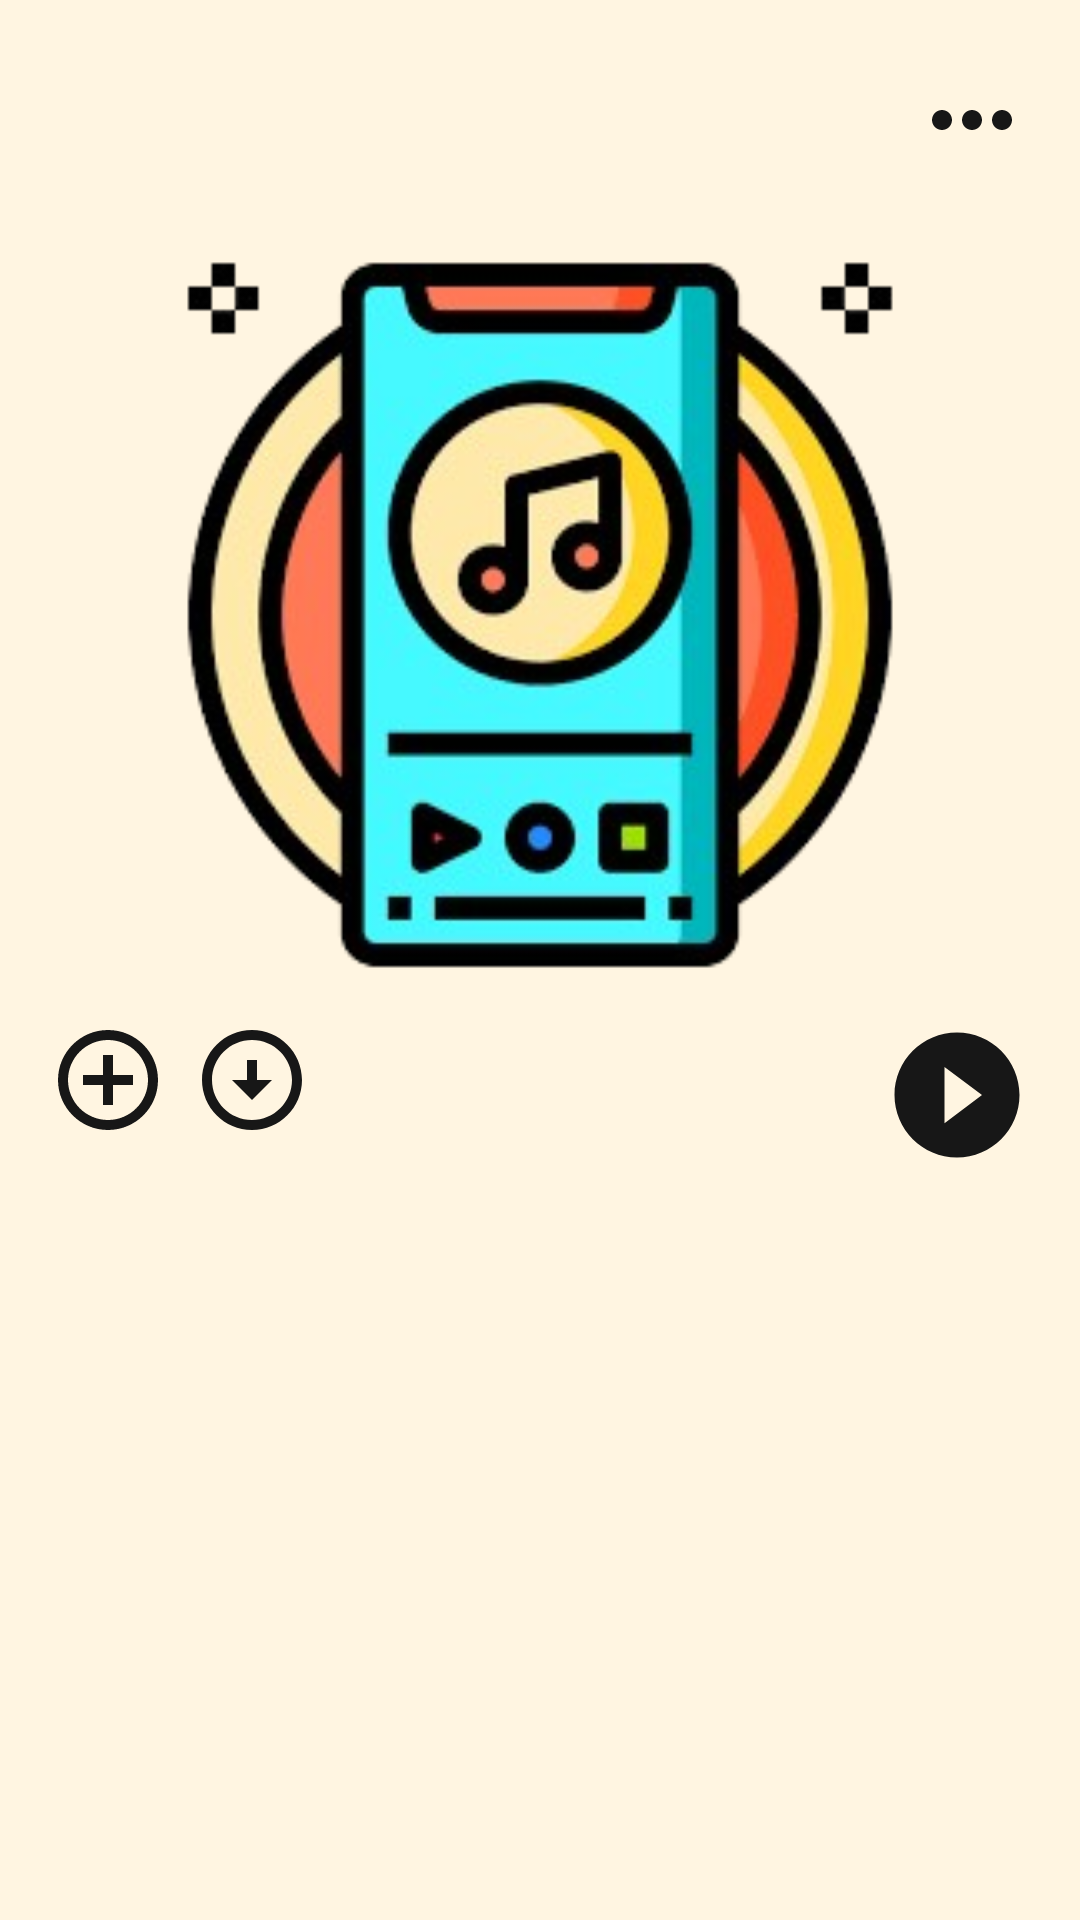

Icons on this 1080 × 1920 Android screen, each with its box as [left=x1, top=y1, right=x2, bottom=y2]:
add: [left=58, top=1030, right=158, bottom=1130]
circle download: [left=202, top=1030, right=302, bottom=1130]
circle play: [left=894, top=1032, right=1020, bottom=1158]
full player menu: [left=932, top=110, right=1012, bottom=130]
